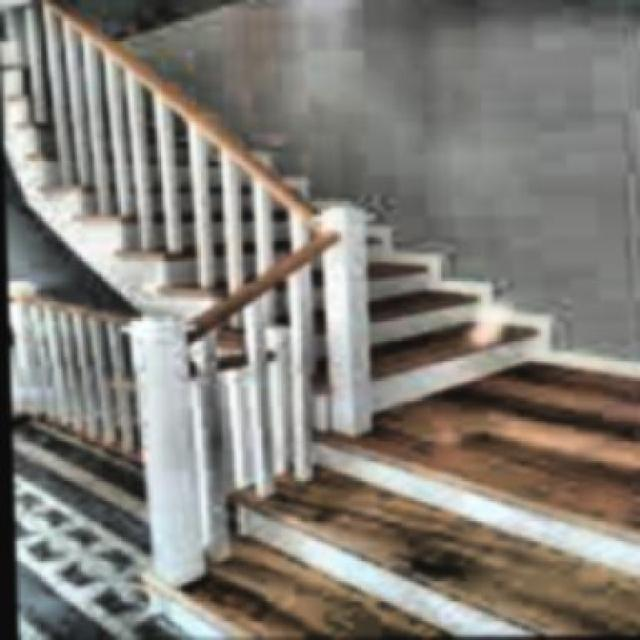stair: (1, 43, 554, 392), (76, 434, 638, 637)
